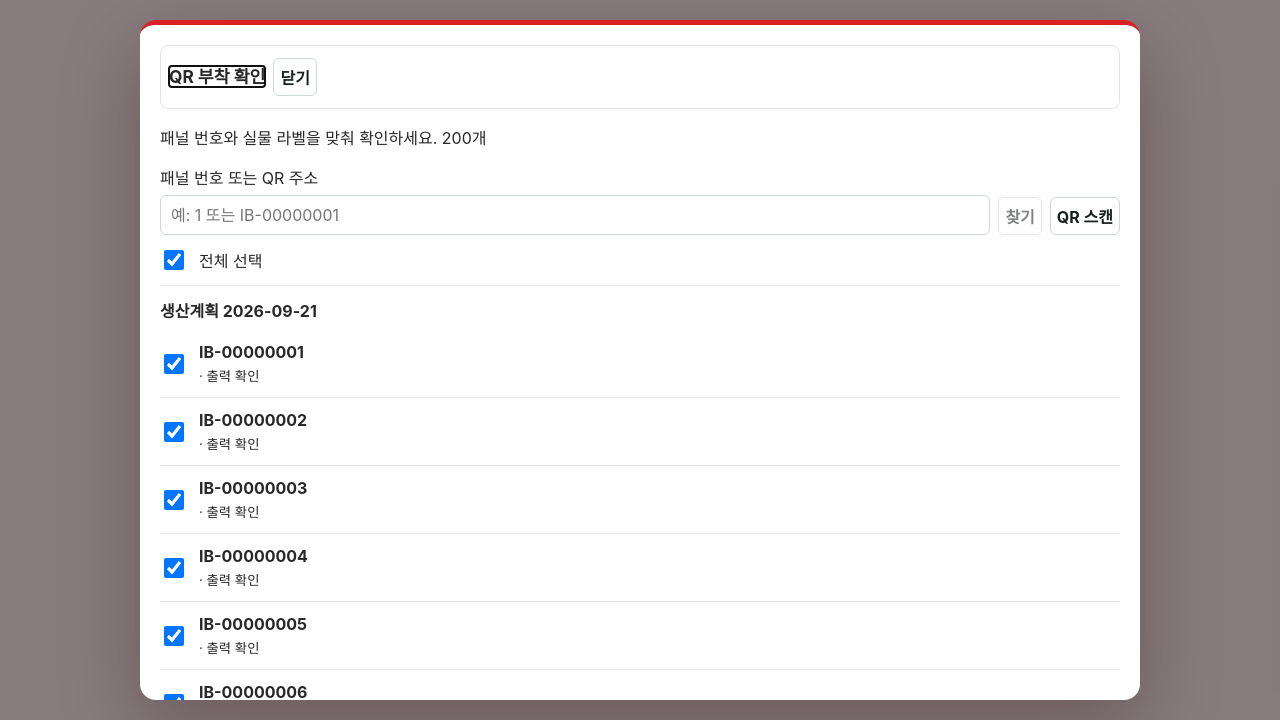
Scenario: lookup at the selection limit explains the limit without claiming selection
The width and height of the screenshot is (1280, 720).
Type "201" into the field at x=575, y=215, box top-left (160, 195), bottom-right (990, 235)
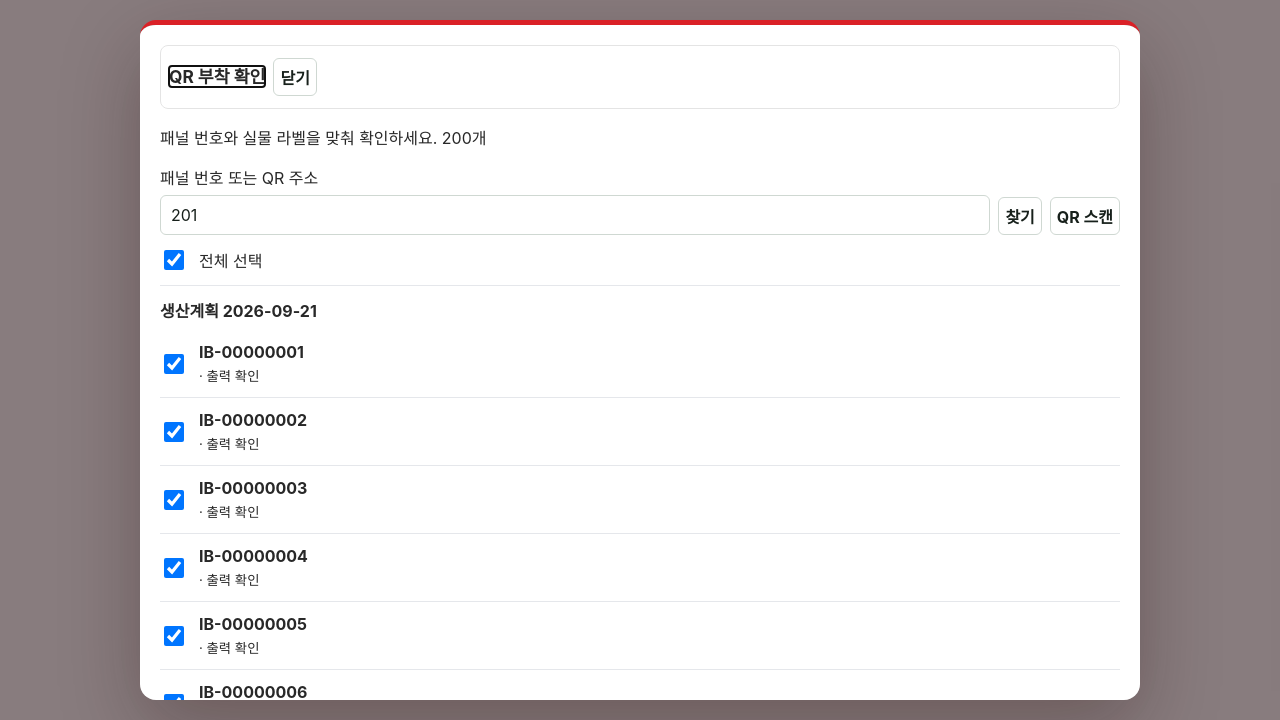
Click the button "찾기" at x=1020, y=216, box top-left (998, 197), bottom-right (1042, 235)
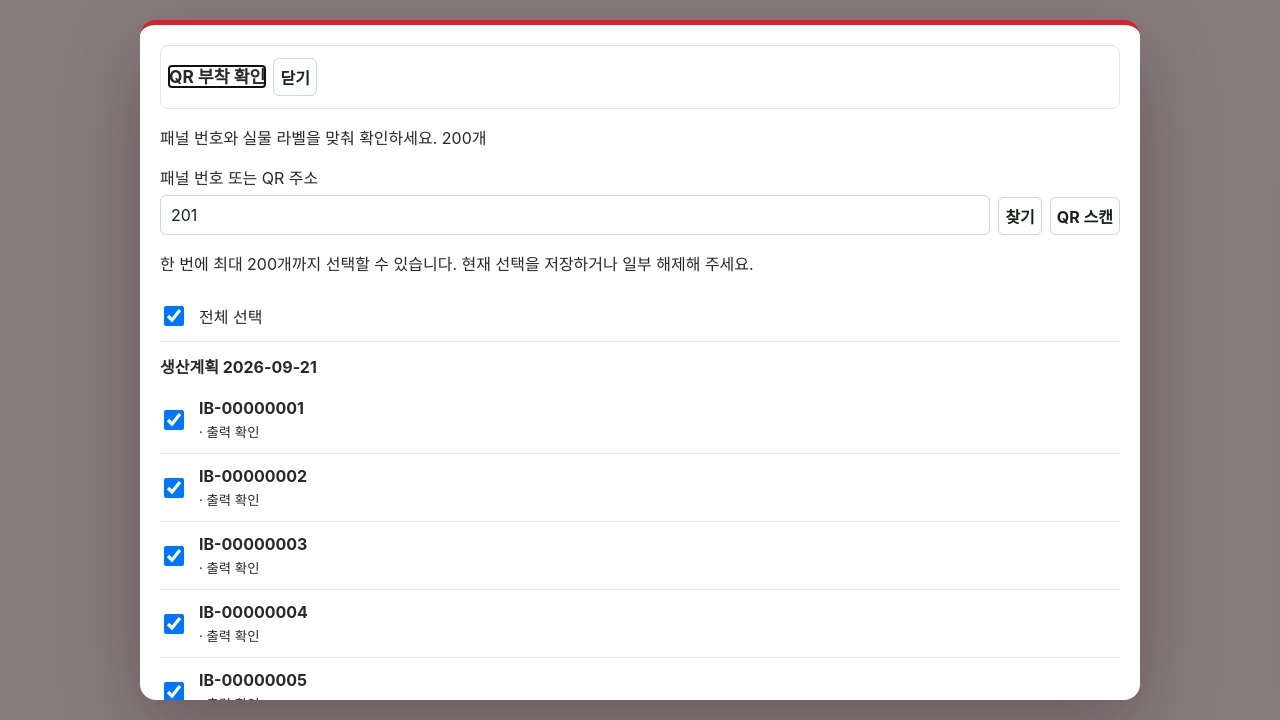
Now the message "한 번에 최대 200개까지 선택할 수 있습니다. 현재 선택을 저장하거나 일부 해제해 주세요." is shown, box top-left (160, 254), bottom-right (754, 274)
Now the number of checkboxes labelled "IB-00000001 · 출력 확인" is 200
